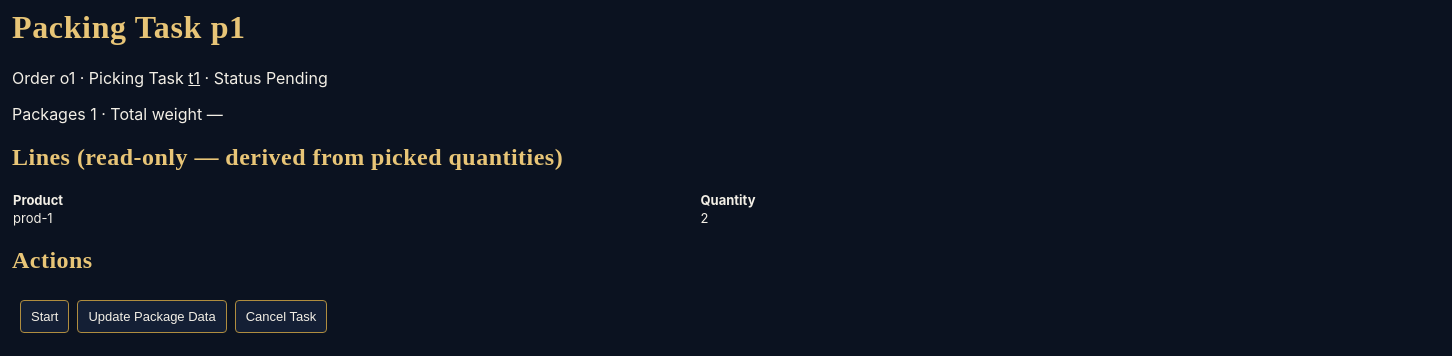
Test case: Packing detail lifecycle actions (Sprint 59B) › renders line quantities as plain read-only text - no input exists until Update Package Data is armed, and even then only for package-level fields
The width and height of the screenshot is (1452, 356).
Expected: the text "prod-1" is shown, [12,209,700,227]
Expected: the text "2" is shown, [700,209,1451,227]
Click the button "Update Package Data": (152, 316) [78,300,227,332]
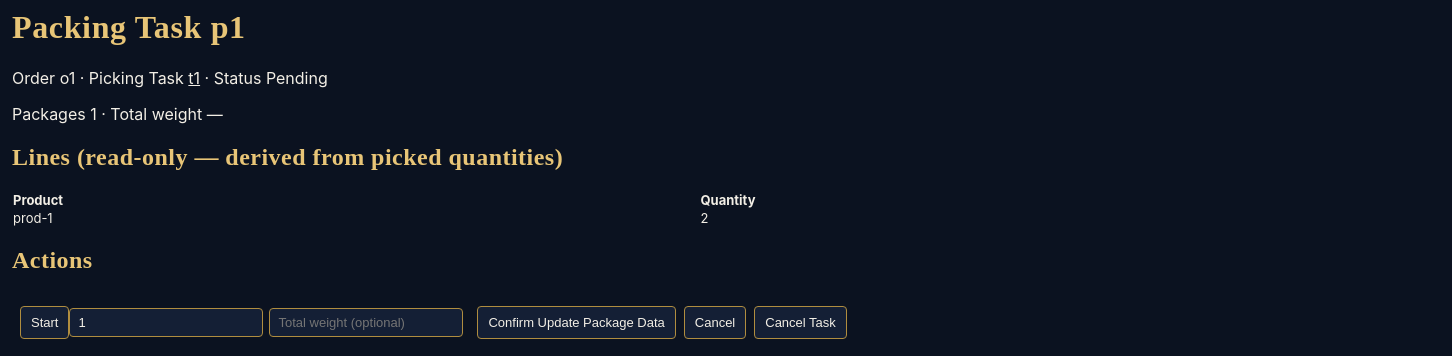
Now the number of number fields is 2, box [70,308,264,336]; [270,308,464,336]
